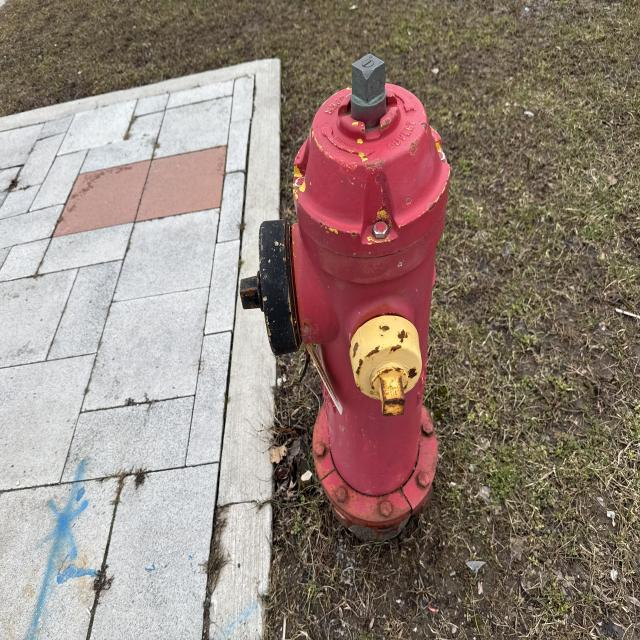Fire hydrant: (238, 53, 452, 544)
